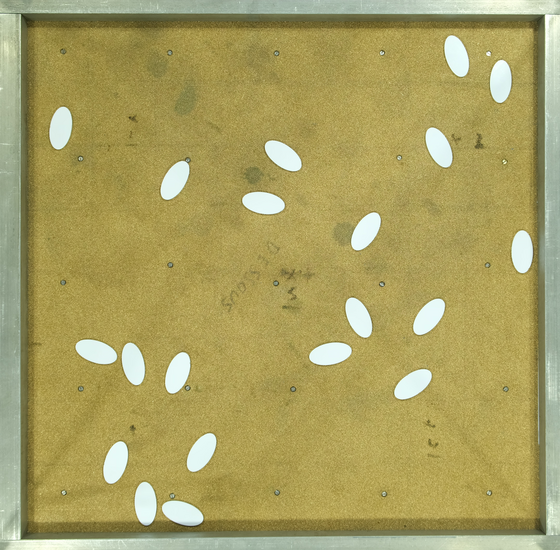pallet: (40, 105, 86, 152), (307, 331, 353, 378), (407, 294, 453, 341), (336, 293, 382, 340), (493, 227, 539, 274), (345, 206, 391, 253), (240, 178, 286, 225), (481, 59, 527, 106), (433, 32, 479, 79), (413, 124, 459, 171), (258, 131, 304, 178), (151, 157, 197, 204), (156, 347, 202, 394), (182, 429, 228, 476), (71, 327, 117, 374), (390, 362, 436, 409), (91, 439, 137, 486), (123, 477, 164, 529), (117, 336, 156, 388), (159, 498, 209, 527)
